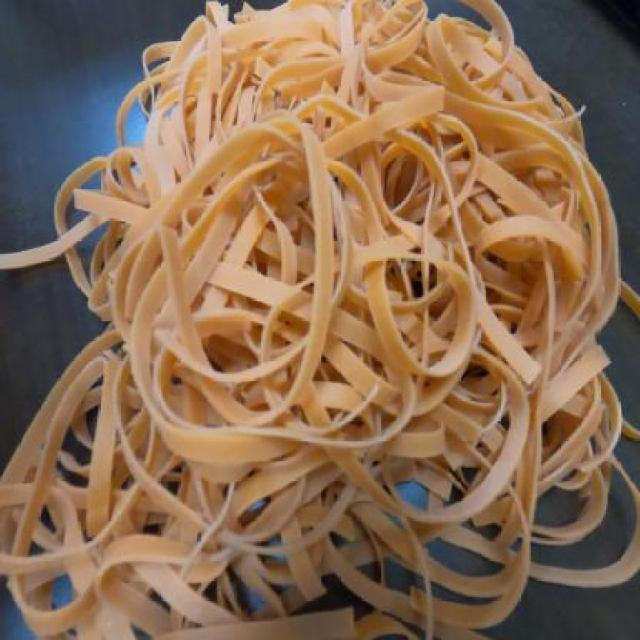Pasta: (0, 0, 638, 638)
